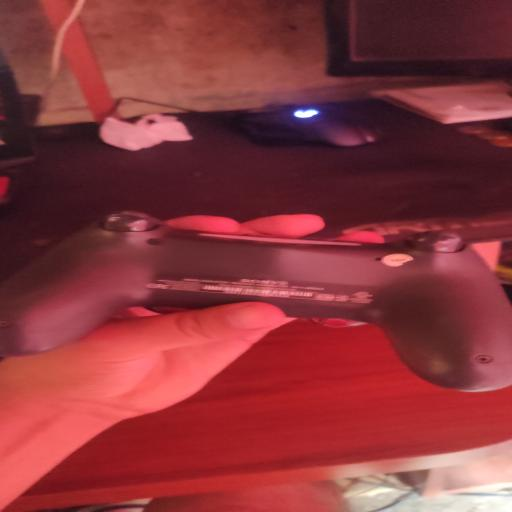ControlPlay4: (0, 211, 512, 391)
